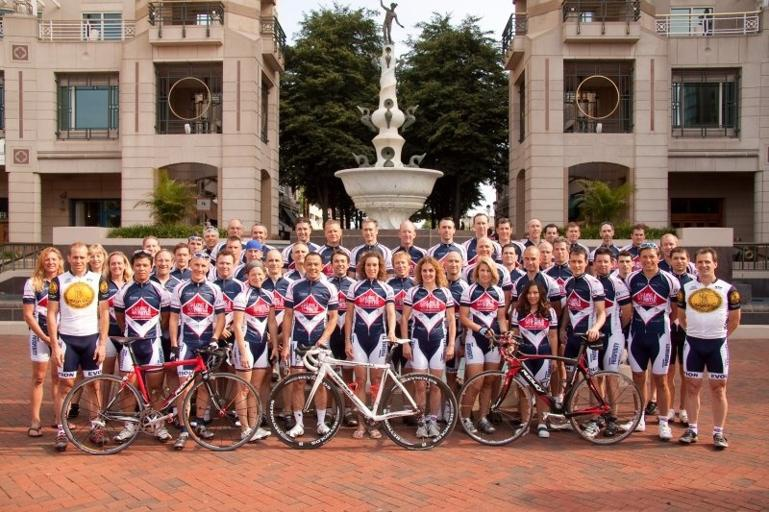non-vehicle: (59, 327, 263, 456), (457, 327, 646, 447), (265, 338, 457, 451)
